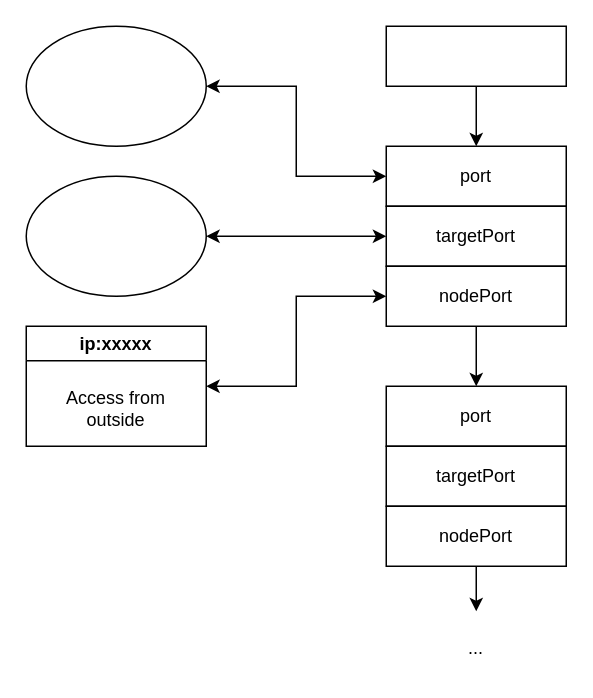
Some shapes in this 593 by 698 pixel diagram are drawn without their labels. Here are the shapes that lost their labels. From the top down, the centre of each, then its label:
At (x=475, y=55): "NodePort Service".
At (x=115, y=85): "Other Pod".
At (x=115, y=235): "This Pod".
